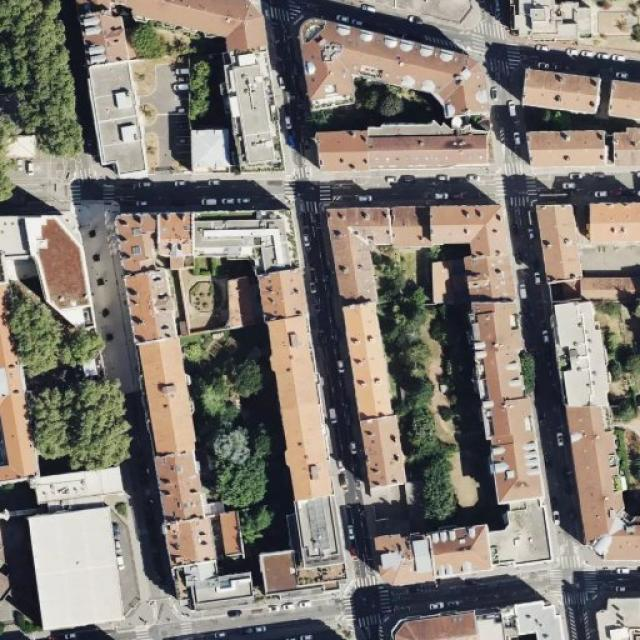immeuble: (18, 460, 144, 640), (300, 5, 485, 127), (164, 486, 347, 606), (466, 258, 546, 510), (360, 518, 497, 606), (0, 205, 92, 332), (311, 122, 495, 172), (549, 285, 615, 411), (108, 0, 274, 50), (229, 45, 291, 177), (567, 400, 623, 546), (335, 298, 401, 418), (86, 55, 150, 178), (191, 188, 299, 257), (0, 286, 34, 500), (134, 321, 192, 445), (268, 297, 323, 422), (325, 193, 435, 251), (515, 61, 608, 118), (533, 196, 591, 282), (356, 398, 410, 488), (517, 121, 613, 171), (431, 201, 522, 252), (72, 3, 142, 68), (512, 0, 608, 45), (326, 242, 386, 314), (123, 250, 176, 329), (152, 439, 202, 516), (285, 415, 334, 493), (113, 192, 157, 258), (586, 194, 640, 245), (258, 248, 306, 304), (188, 126, 236, 178), (157, 190, 193, 250), (601, 68, 640, 122), (606, 123, 640, 175)
